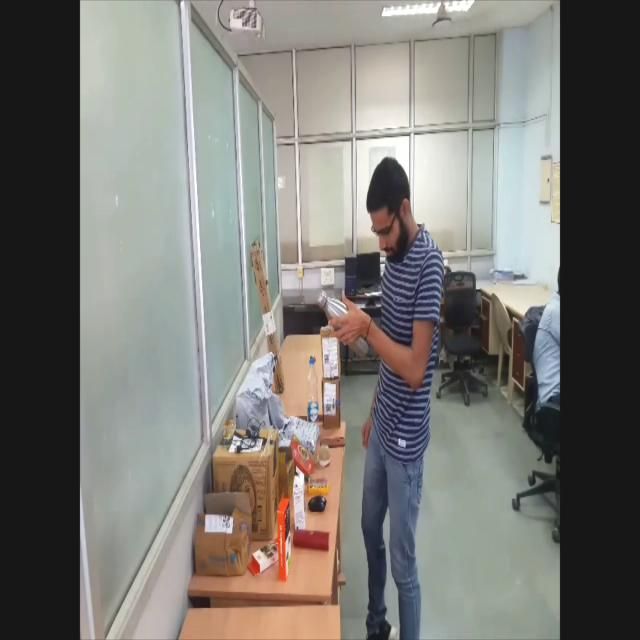normal: (317, 157, 445, 639)
